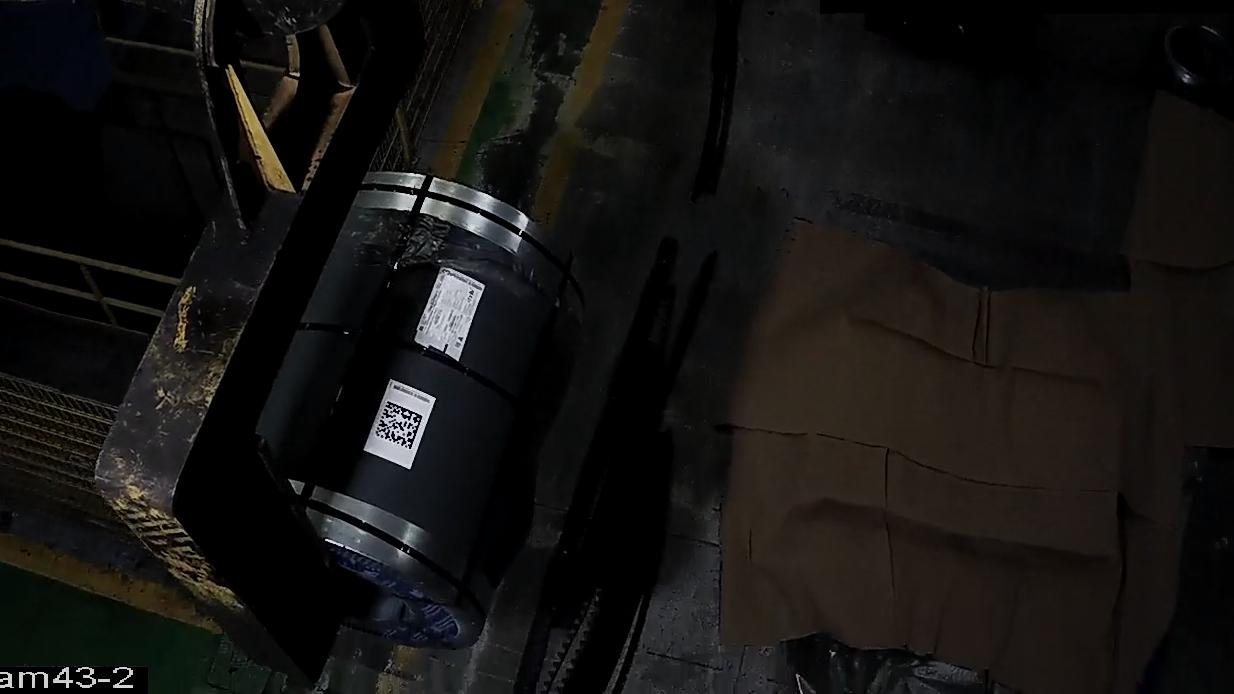data matrix: (375, 400, 425, 452)
